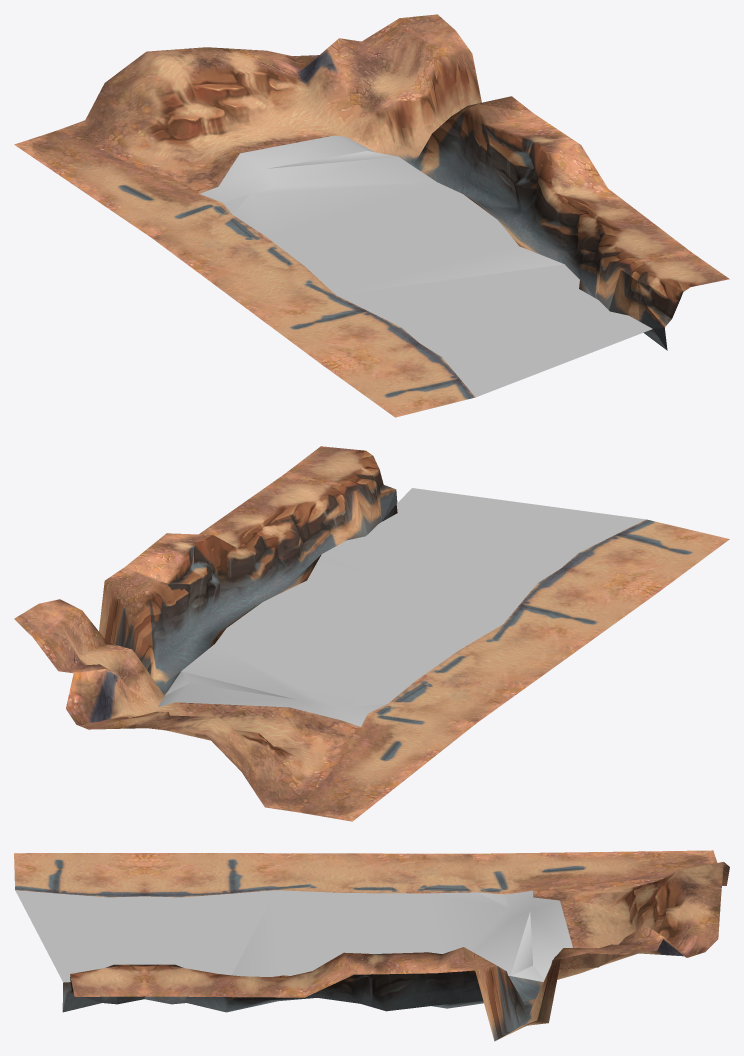
Rendered from Battlebacks_05.FBX.
The picture shows the model from 3 angles, top to bottom: view 1: azimuth 30°, elevation 25°; view 2: azimuth 150°, elevation 25°; view 3: azimuth 270°, elevation 25°; orthographic projection. The views are drawn at different scales.
Visible parts, largest first — view 1: Battlebacks_05 (×2); view 2: Battlebacks_05 (×2); view 3: Battlebacks_05 (×2).
Part boxes in pixels (<box>): Battlebacks_05 (×2): <box>14,14,729,417</box>; Battlebacks_05 (×2): <box>14,446,729,821</box>; Battlebacks_05 (×2): <box>14,850,729,1041</box>.
Size of the model in its own units: 4512 by 1124 by 7953.
